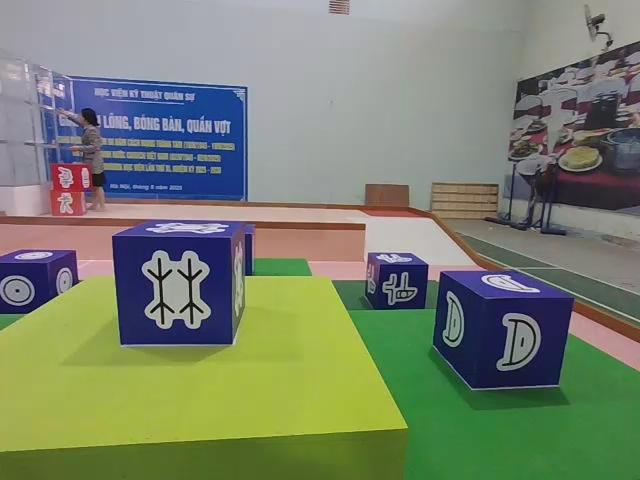R2 Real Blue: (115, 220, 251, 349), (433, 270, 572, 393), (0, 249, 77, 315), (362, 252, 427, 310)
